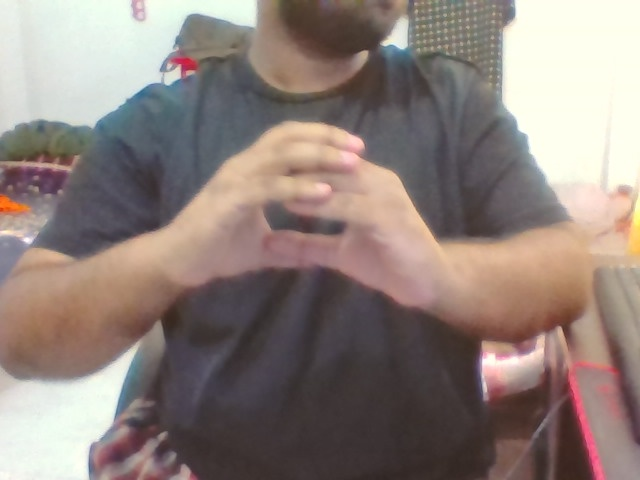O: (194, 111, 446, 322)
